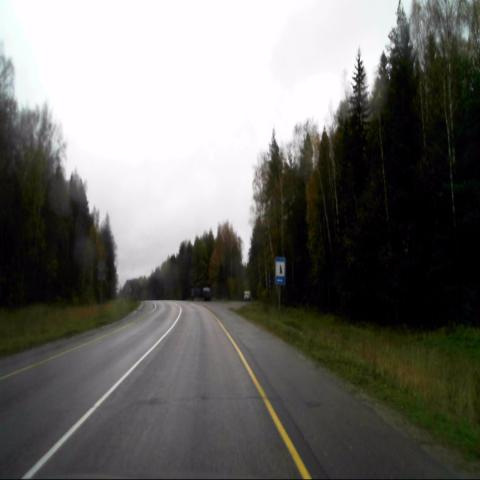7_11: (274, 256, 286, 287)
